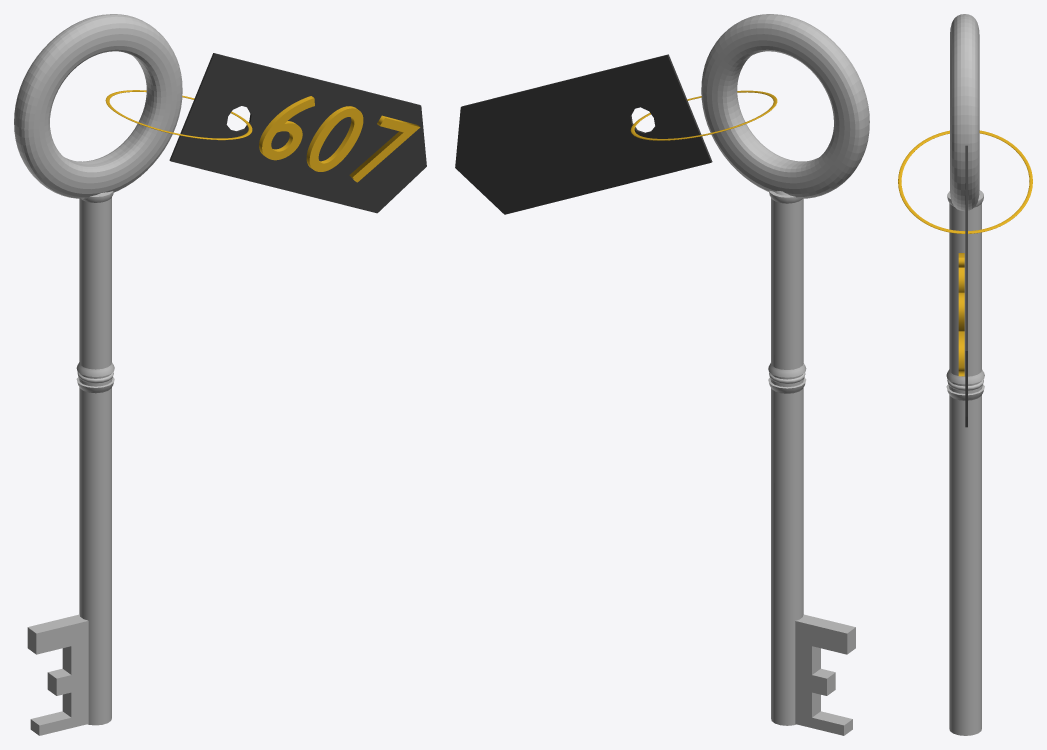
Rendered from key607.fbx.
3 renders of one model, left to right at view 1: azimuth 30°, elevation 25°; view 2: azimuth 150°, elevation 25°; view 3: azimuth 270°, elevation 25°, orthographic.
Visible parts, largest first — view 1: key607; view 2: key607; view 3: key607.
Part boxes in pixels (left/top/right/bottom): key607: left=14, top=14, right=426, bottom=735; key607: left=455, top=14, right=869, bottom=735; key607: left=898, top=14, right=1032, bottom=735.
Bounding box in the file's own units: 8.68 × 14.18 × 2.45.
